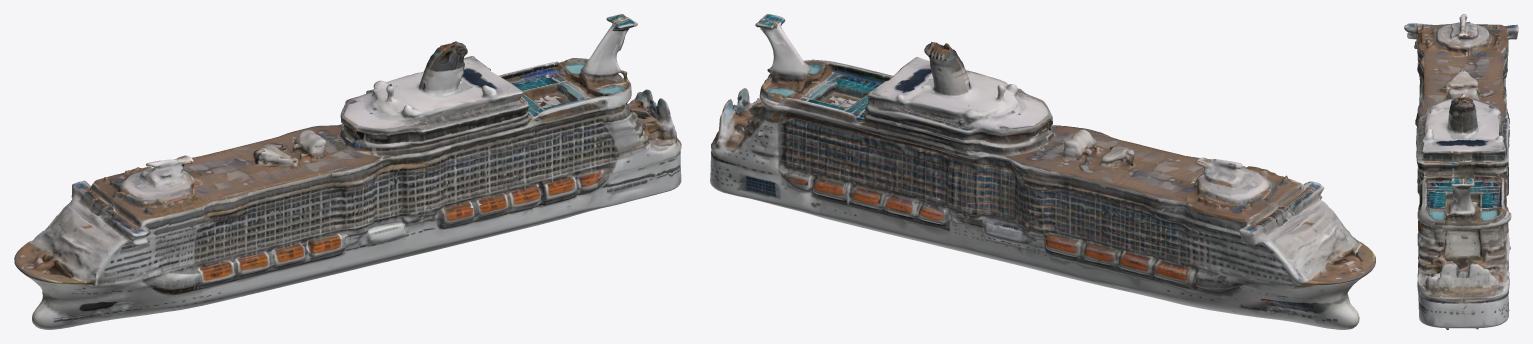
The model's file is cruise-majesty.glb.
3 renders of one model, left to right at view 1: azimuth 30°, elevation 25°; view 2: azimuth 150°, elevation 25°; view 3: azimuth 270°, elevation 25°, orthographic. The views are drawn at different scales.
Visible parts, largest first — view 1: CruiseMajesty; view 2: CruiseMajesty; view 3: CruiseMajesty.
Part boxes in pixels (x1,y1,x2,y2): CruiseMajesty: (14,14,681,329); CruiseMajesty: (710,14,1375,329); CruiseMajesty: (1404,14,1518,329).
Bounding box in the file's own units: 300 × 84.51 × 56.03.
Materials: 1 (1 with a texture image).
